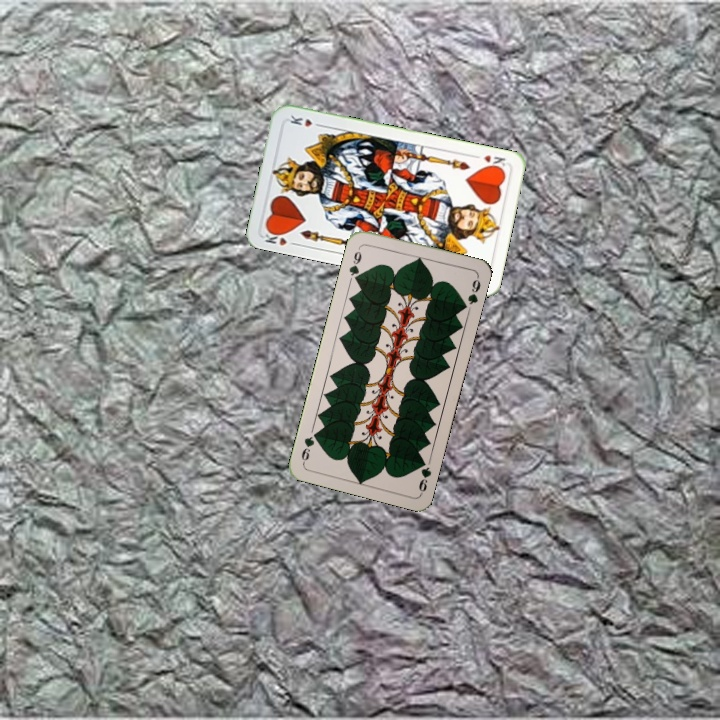G9: (414, 454, 434, 496), (345, 243, 364, 284)
HK: (260, 226, 300, 248), (480, 151, 508, 172)
